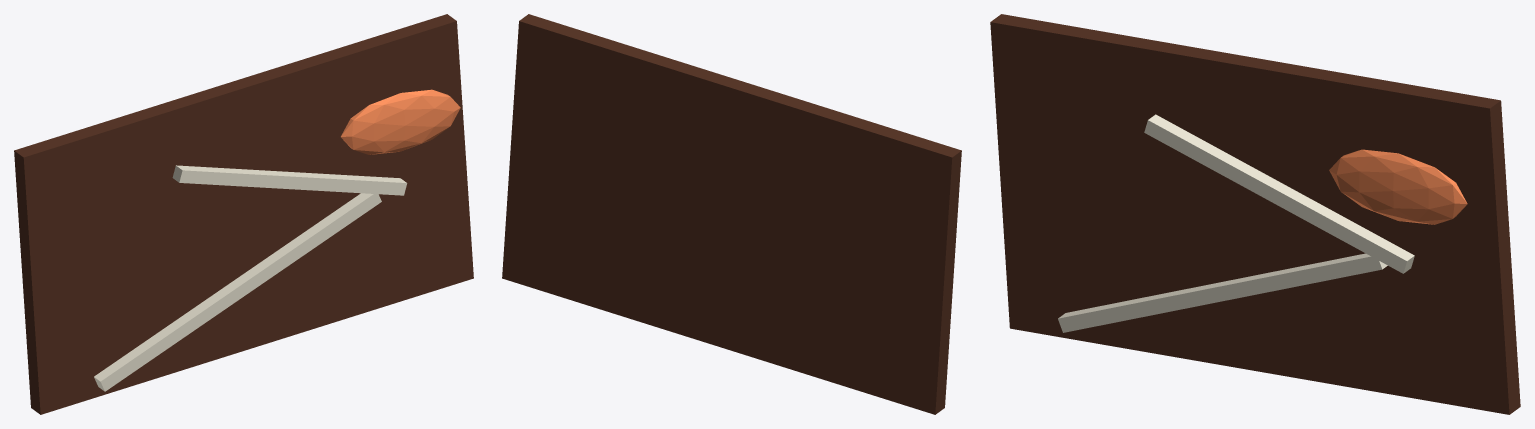
File: 03_weathering_wear_overlay_3.glb
3 views of the same model, side by side, from view 1: azimuth 30°, elevation 25°; view 2: azimuth 150°, elevation 25°; view 3: azimuth 330°, elevation 25° (orthographic). The views are drawn at different scales.
Parts seen in each view (by area): view 1: wear_plate, scratch_a, rust_or_moss_spot, scratch_b; view 2: wear_plate; view 3: wear_plate, rust_or_moss_spot, scratch_b, scratch_a.
Part boxes in pixels (box(x1,y1,x2,y2)): wear_plate: box(14, 14, 473, 414); scratch_a: box(94, 193, 381, 391); rust_or_moss_spot: box(341, 89, 460, 154); scratch_b: box(172, 165, 407, 195); wear_plate: box(502, 14, 961, 414); wear_plate: box(990, 14, 1520, 414); rust_or_moss_spot: box(1329, 149, 1467, 224); scratch_b: box(1144, 114, 1414, 273); scratch_a: box(1058, 253, 1387, 332).
Size of the model in its own units: 1.35 by 0.8363 by 0.134.
